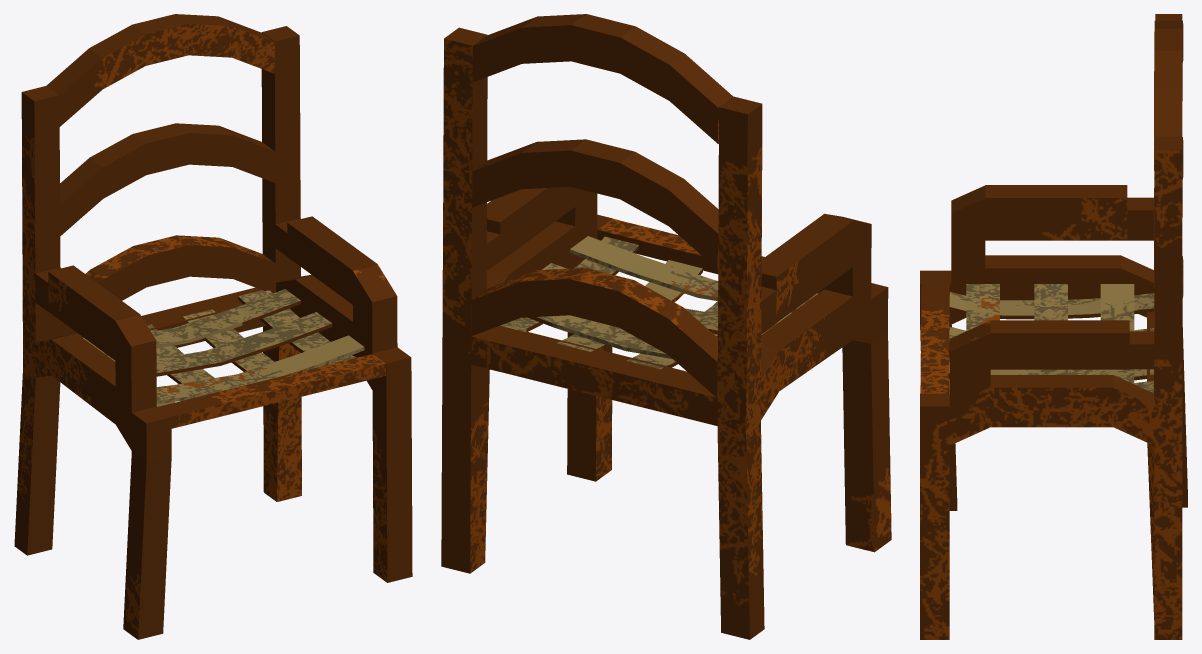
Rendered from ChairModel.fbx.
3 views of the same model, side by side, from view 1: azimuth 30°, elevation 25°; view 2: azimuth 150°, elevation 25°; view 3: azimuth 270°, elevation 25° (orthographic). The views are drawn at different scales.
Visible parts, largest first — view 1: Chair; view 2: Chair; view 3: Chair.
Boxes of the visible parts, box(x1,y1,x2,y2) form: Chair: box(14, 14, 412, 639); Chair: box(441, 14, 891, 639); Chair: box(920, 14, 1187, 639).
Bounding box in the file's own units: 254 × 447 × 204.
